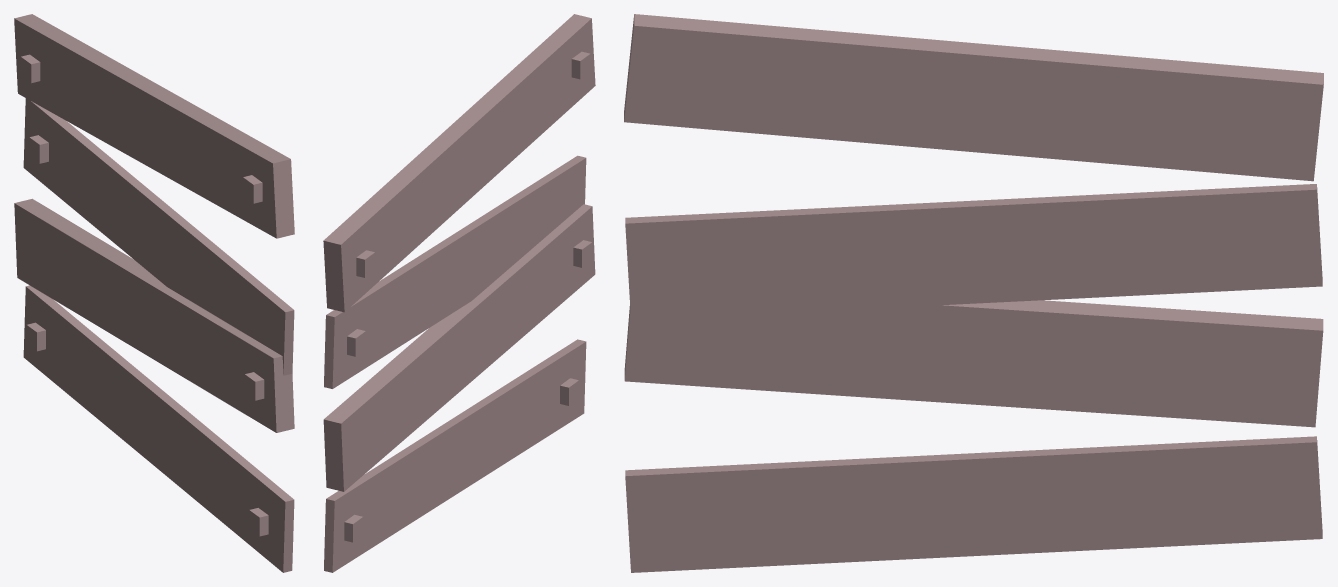
File: barricade-window-b.obj
The picture shows the model from 3 angles, left to right: view 1: azimuth 30°, elevation 25°; view 2: azimuth 150°, elevation 25°; view 3: azimuth 270°, elevation 25°; orthographic projection. The views are drawn at different scales.
Size of the model in its own units: 0.075 by 1.08 by 1.26.
